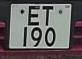0: (43, 26, 58, 49)
1: (20, 26, 30, 48)
9: (29, 26, 44, 49)
E: (26, 4, 41, 29)
T: (40, 5, 55, 28)
